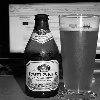beer: (60, 15, 100, 95)
